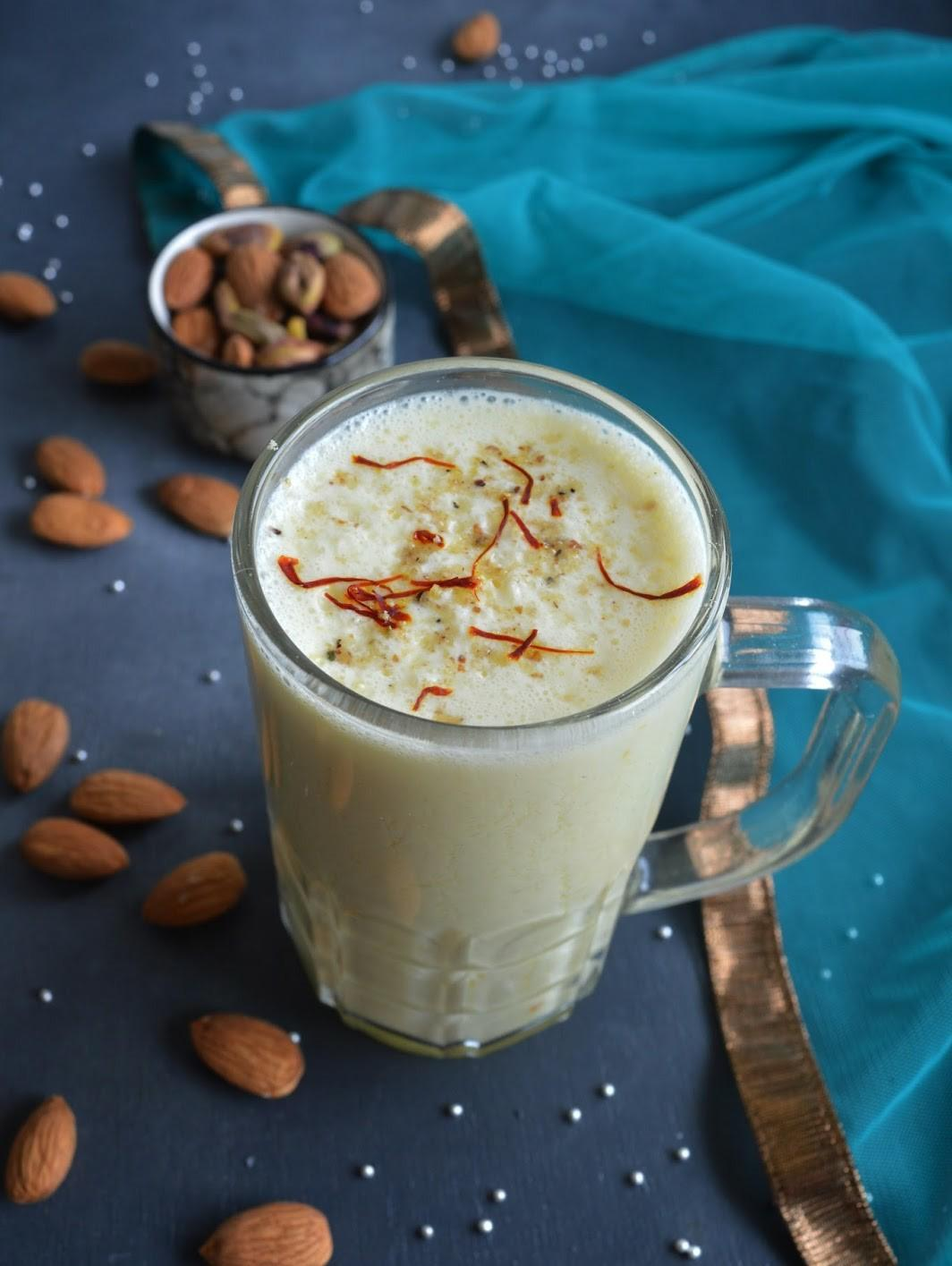Lassi: (251, 388, 708, 1038)
